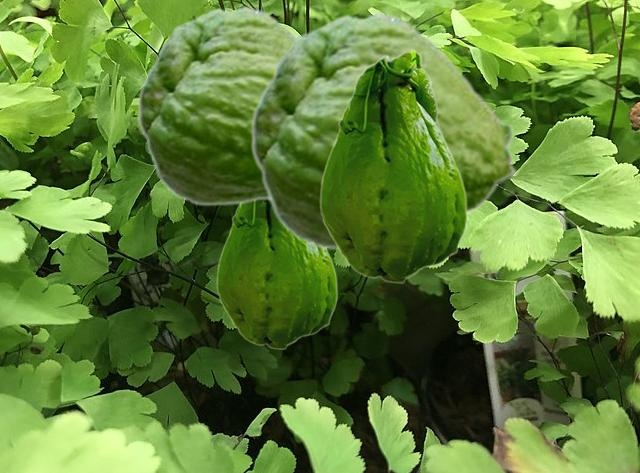sayote: (250, 11, 519, 250), (319, 49, 467, 283), (137, 5, 297, 206), (216, 201, 337, 349)
